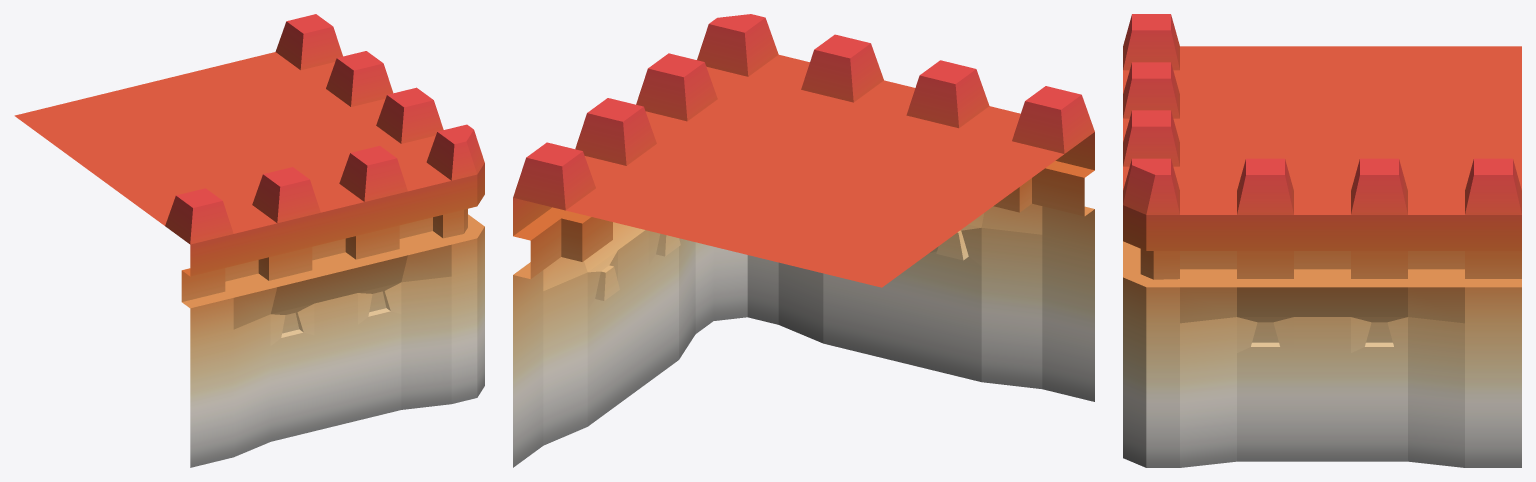
The model's file is sFort1.001.fbx.
3 views of the same model, side by side, from view 1: azimuth 30°, elevation 25°; view 2: azimuth 150°, elevation 25°; view 3: azimuth 270°, elevation 25° (orthographic). The views are drawn at different scales.
Parts seen in each view (by area): view 1: sFort1.001; view 2: sFort1.001; view 3: sFort1.001.
Part boxes in pixels (x1,y1,x2,y2): sFort1.001: (14,14,484,467); sFort1.001: (513,14,1094,467); sFort1.001: (1123,14,1521,467).
Size of the model in its own units: 100 by 80 by 100.
